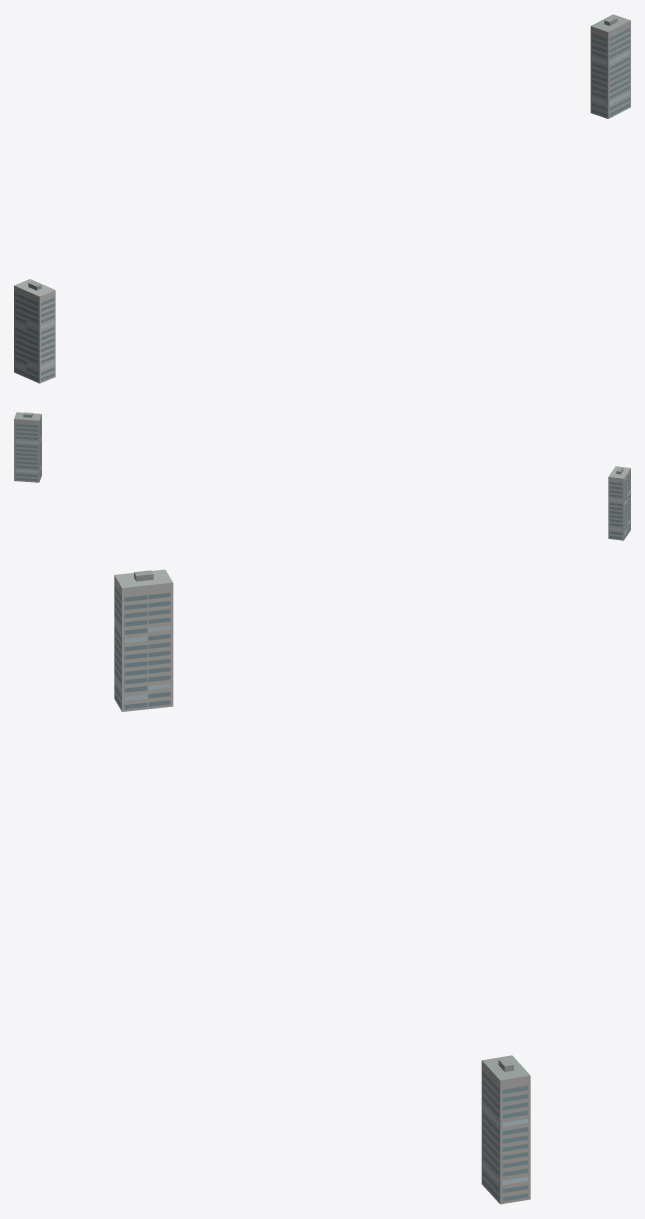
The model's file is apt-a10025850.glb.
3 views of the same model, one above another, from view 1: azimuth 30°, elevation 25°; view 2: azimuth 150°, elevation 25°; view 3: azimuth 270°, elevation 25° (orthographic). The views are drawn at different scales.
Parts seen in each view (by area): view 1: apt-a10025850; view 2: apt-a10025850; view 3: apt-a10025850.
Part boxes in pixels (box(x1,y1,x2,y2)): apt-a10025850: box(14, 14, 630, 383); apt-a10025850: box(14, 412, 630, 540); apt-a10025850: box(114, 569, 530, 1204).
Bounding box in the file's own units: 404 × 47.81 × 139.
